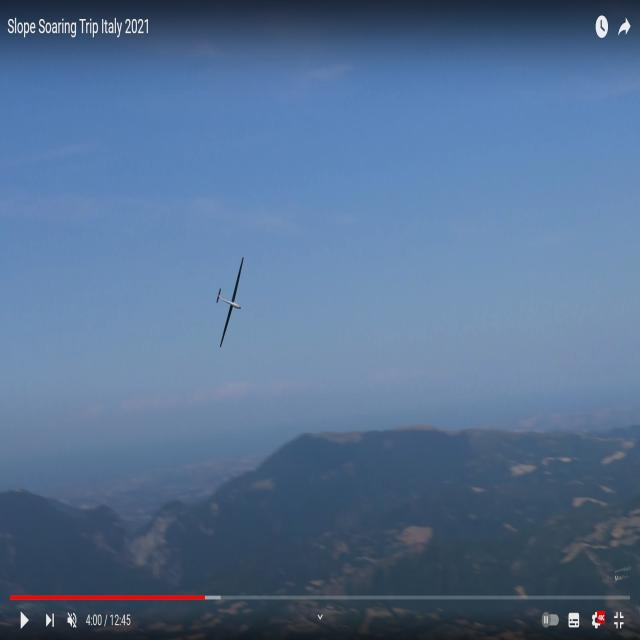iha: (214, 288, 245, 314)
